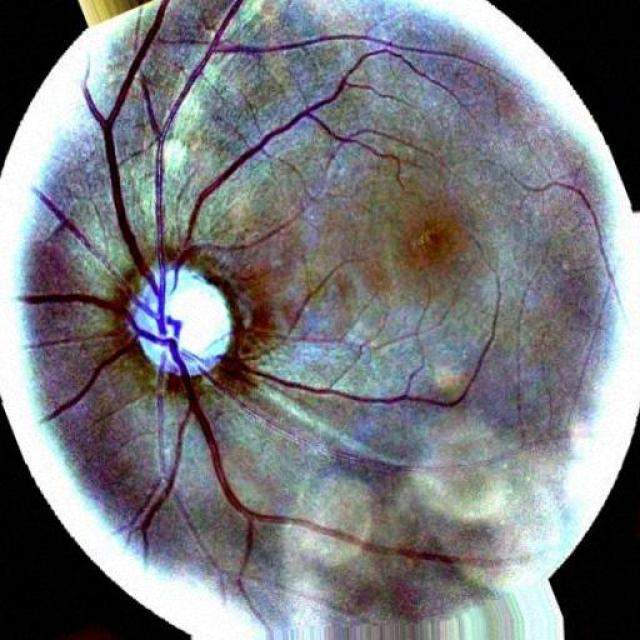Nerves: (22, 0, 500, 622), (180, 499, 225, 589)
Optic Disk: (129, 264, 232, 374)
